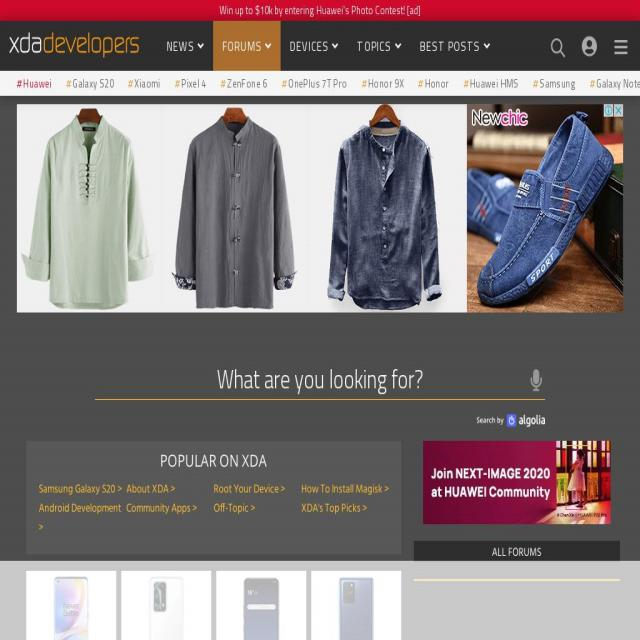navigation-links: (5, 28, 633, 102), (30, 478, 394, 522)
options: (609, 33, 636, 65)
search: (542, 35, 572, 63)
